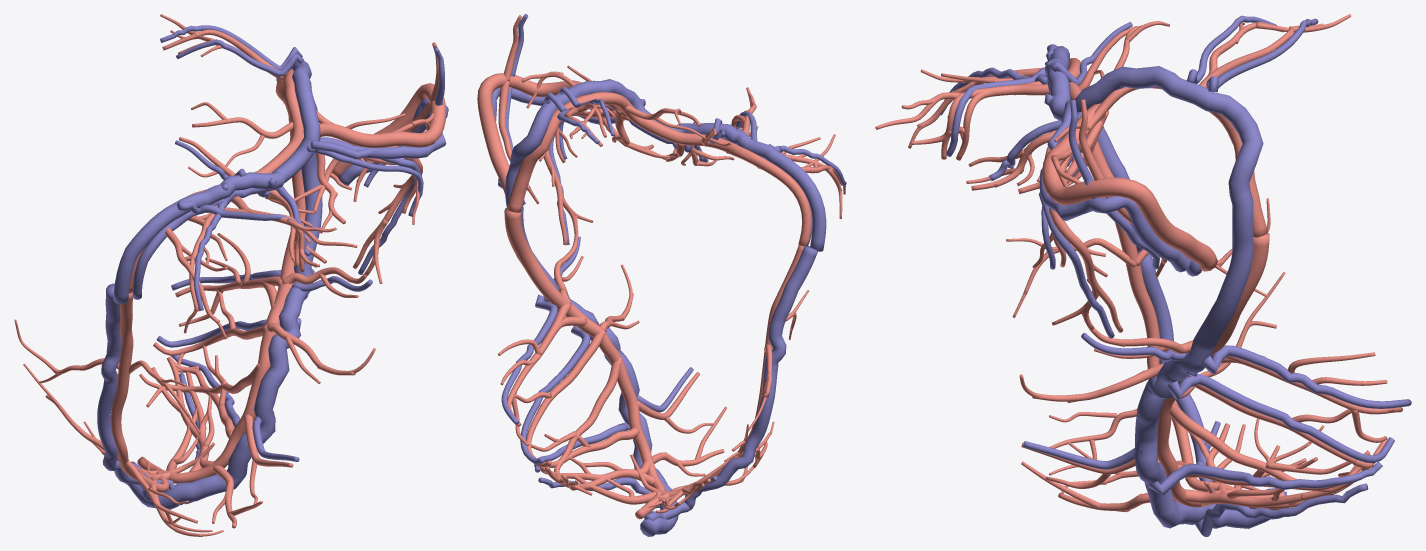
The model's file is vessels_59.glb.
The picture shows the model from 3 angles, left to right: view 1: azimuth 30°, elevation 25°; view 2: azimuth 150°, elevation 25°; view 3: azimuth 270°, elevation 25°; orthographic projection. The views are drawn at different scales.
Visible parts, largest first — view 1: Renderer Node; view 2: Renderer Node; view 3: Renderer Node.
Part boxes in pixels (x1,y1,x2,y2): Renderer Node: [14, 14, 448, 536]; Renderer Node: [477, 14, 846, 536]; Renderer Node: [875, 14, 1411, 536].
Bounding box in the file's own units: 93.83 × 111 × 96.7.
